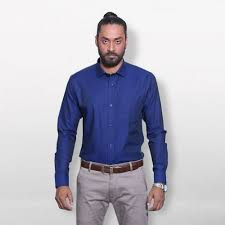F_belt: (79, 154, 153, 181)
F_dress pants: (72, 159, 151, 225)
F_shirt: (51, 58, 179, 195)
